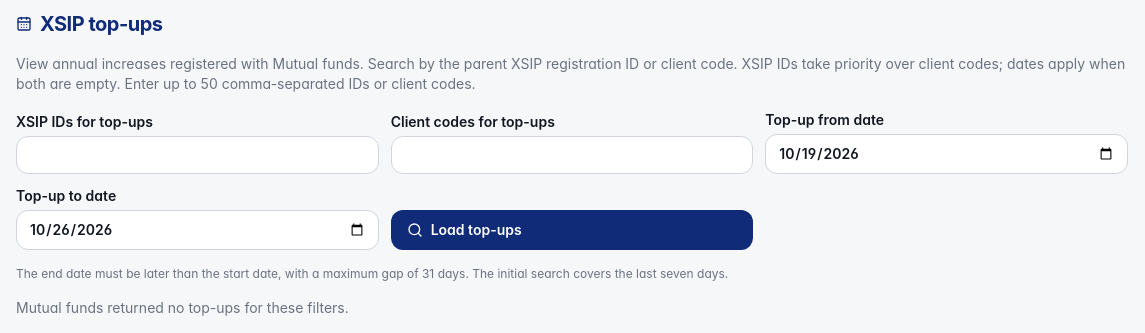
Test: filters by parent XSIP and shows genuine empty results
This screenshot has width=1145, height=333.
Check: the message "Mutual funds returned no top-ups for these filters." is shown, box [16, 299, 349, 316]
In the field labelled "XSIP IDs for top-ups": x=197, y=155 [16, 136, 379, 174], type "123"
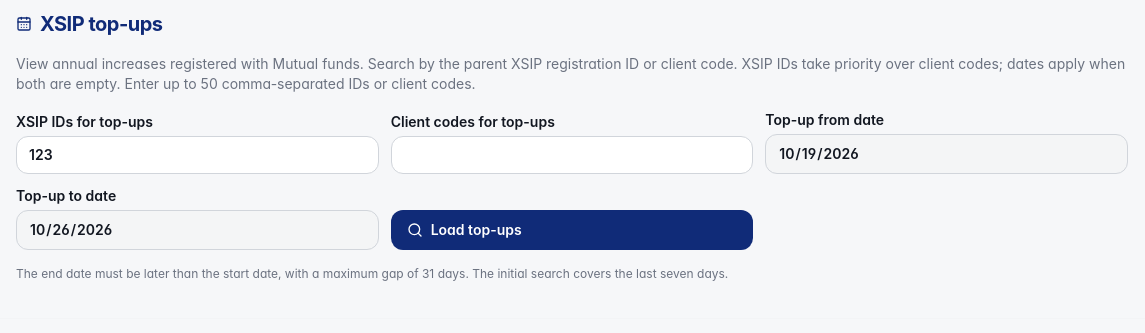
Click the button "Load top-ups": x=476, y=230 [391, 210, 753, 250]
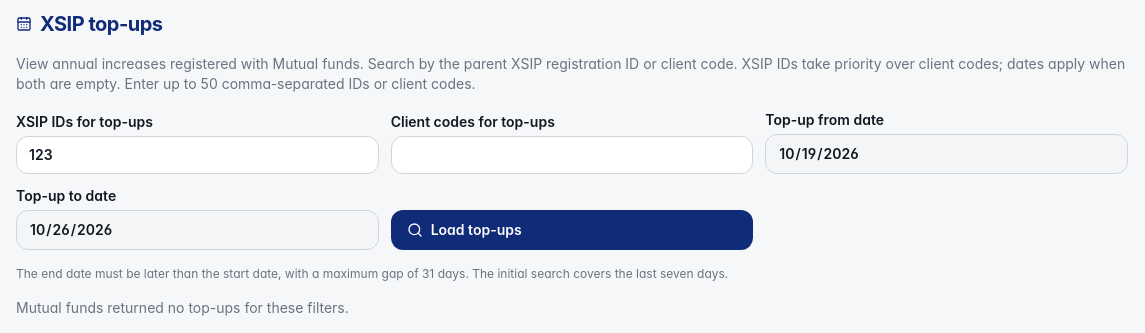
Check: the message shows "Mutual funds returned no top-ups", box [16, 299, 349, 316]
